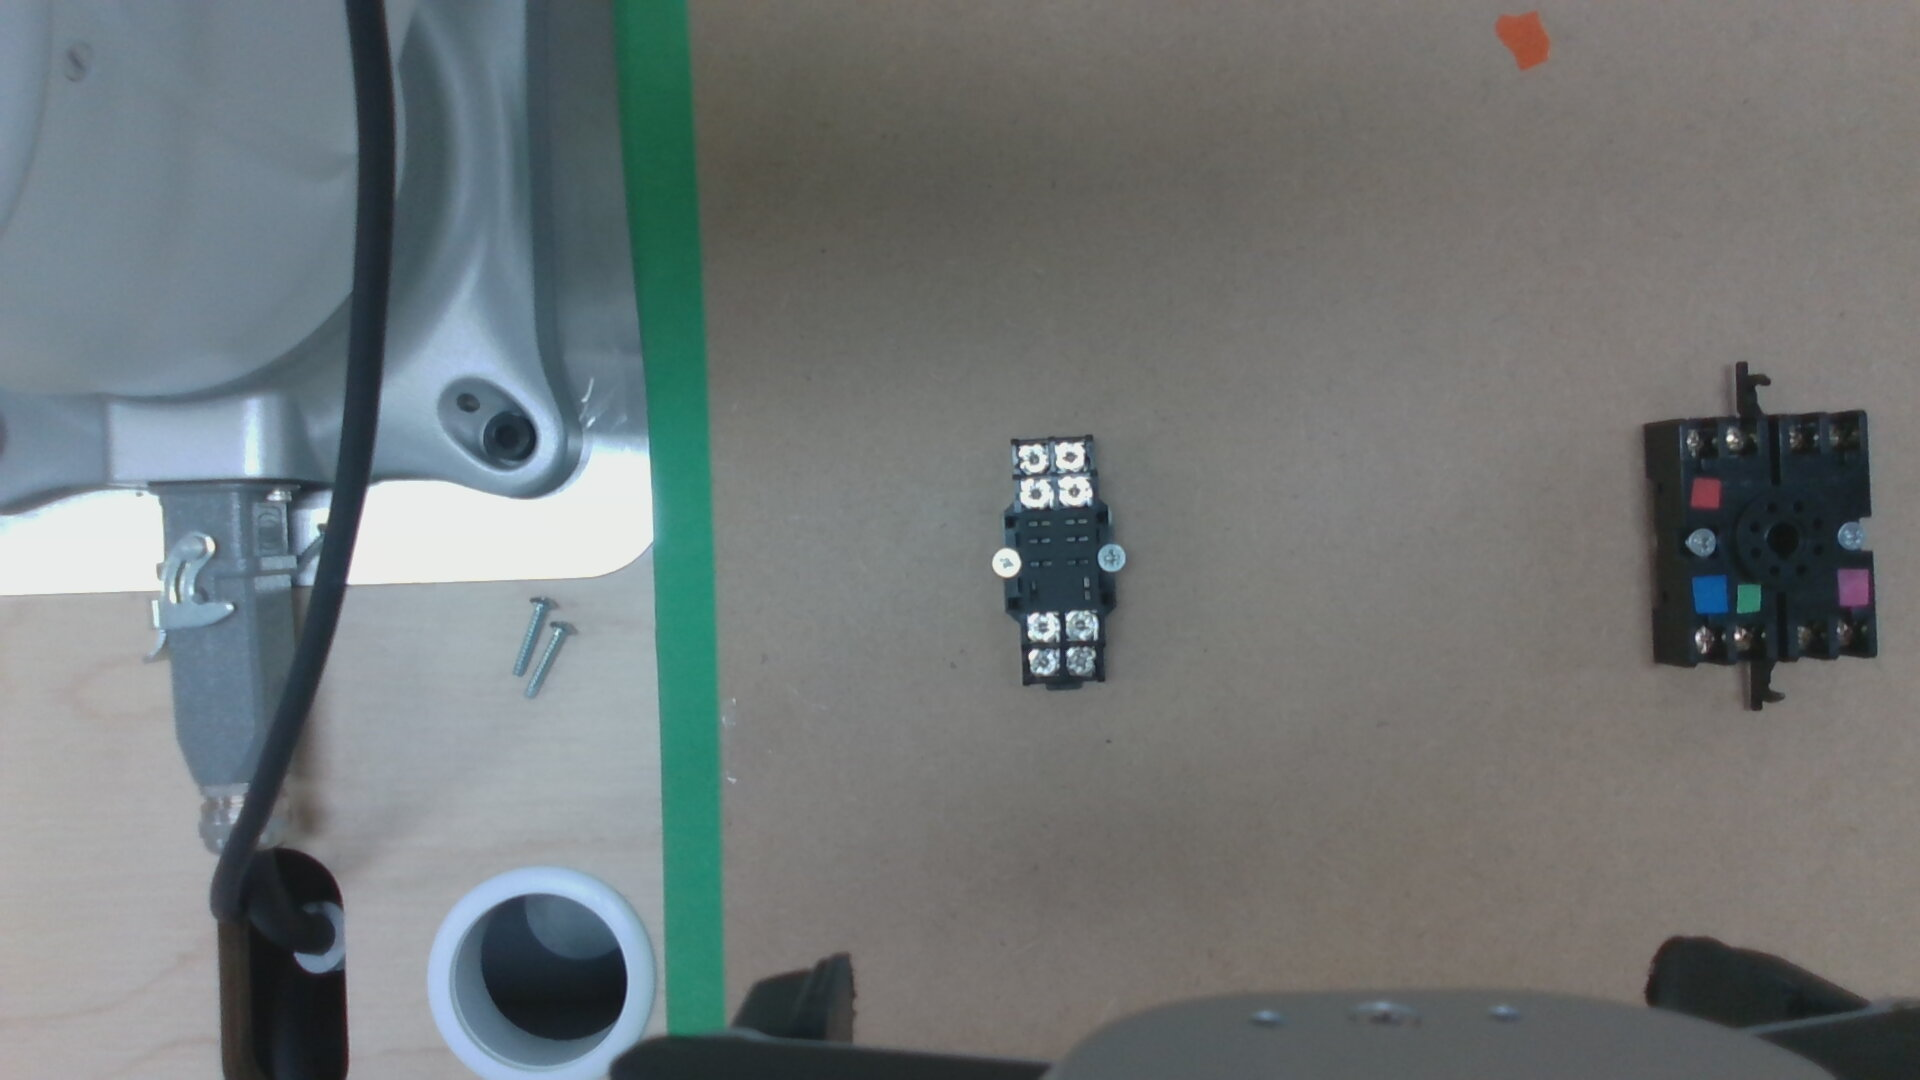relay 3: (1055, 443, 1085, 469)
relay 4: (1015, 444, 1047, 473)
relay 5: (1067, 647, 1097, 675)
relay 6: (1027, 647, 1058, 676)
relay 7: (1065, 612, 1097, 640)
relay 8: (1026, 615, 1059, 641)
